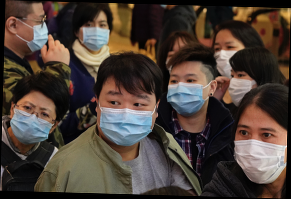with_mask: (96, 89, 155, 148), (234, 122, 287, 183), (9, 99, 53, 147), (165, 70, 208, 117), (19, 11, 50, 54), (213, 38, 244, 79), (78, 18, 111, 54), (228, 68, 254, 106)
